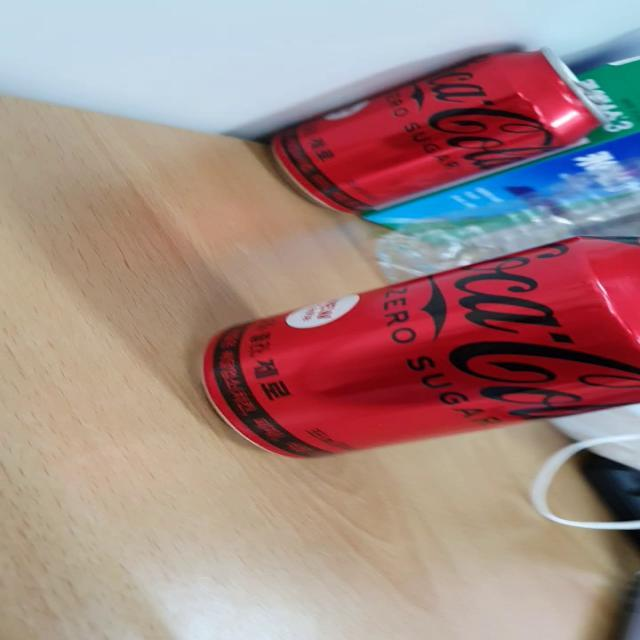coca-cola: (182, 228, 640, 468), (260, 37, 616, 221)
